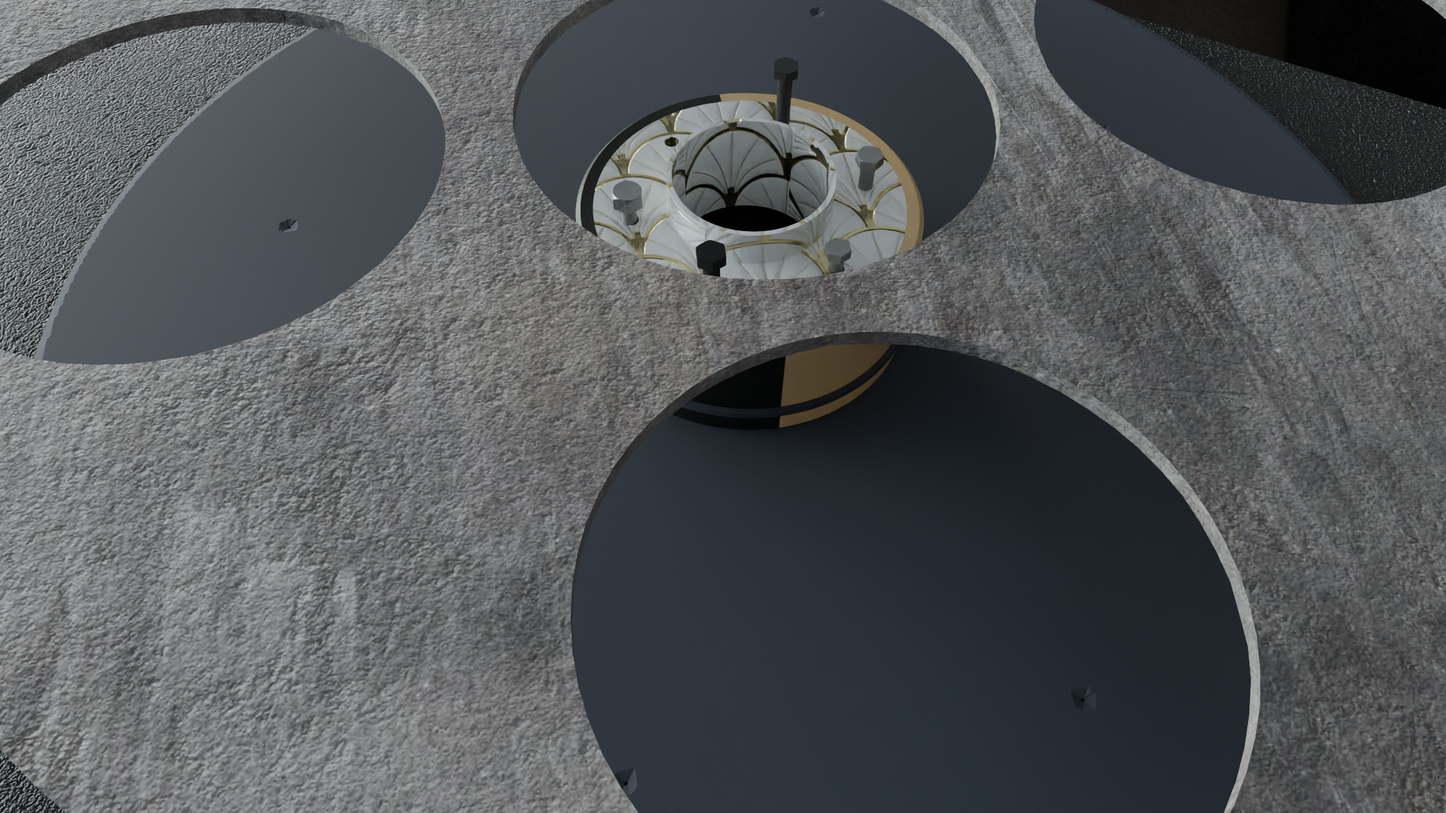bolt: (612, 181, 642, 205), (696, 240, 726, 264), (825, 238, 852, 257), (856, 146, 884, 164), (774, 57, 798, 75)
